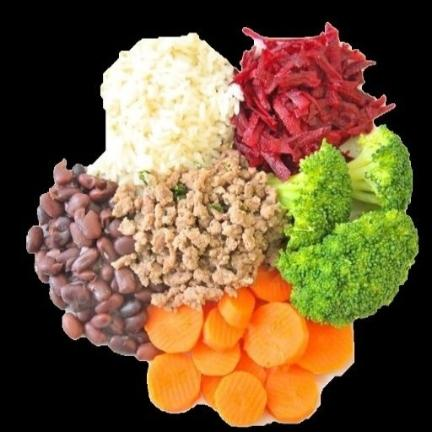beans: (27, 161, 167, 359)
beet: (233, 23, 393, 179)
broccoli: (269, 126, 418, 324)
carrot: (144, 272, 353, 425)
meat: (114, 149, 283, 308)
rice: (89, 33, 239, 185)
